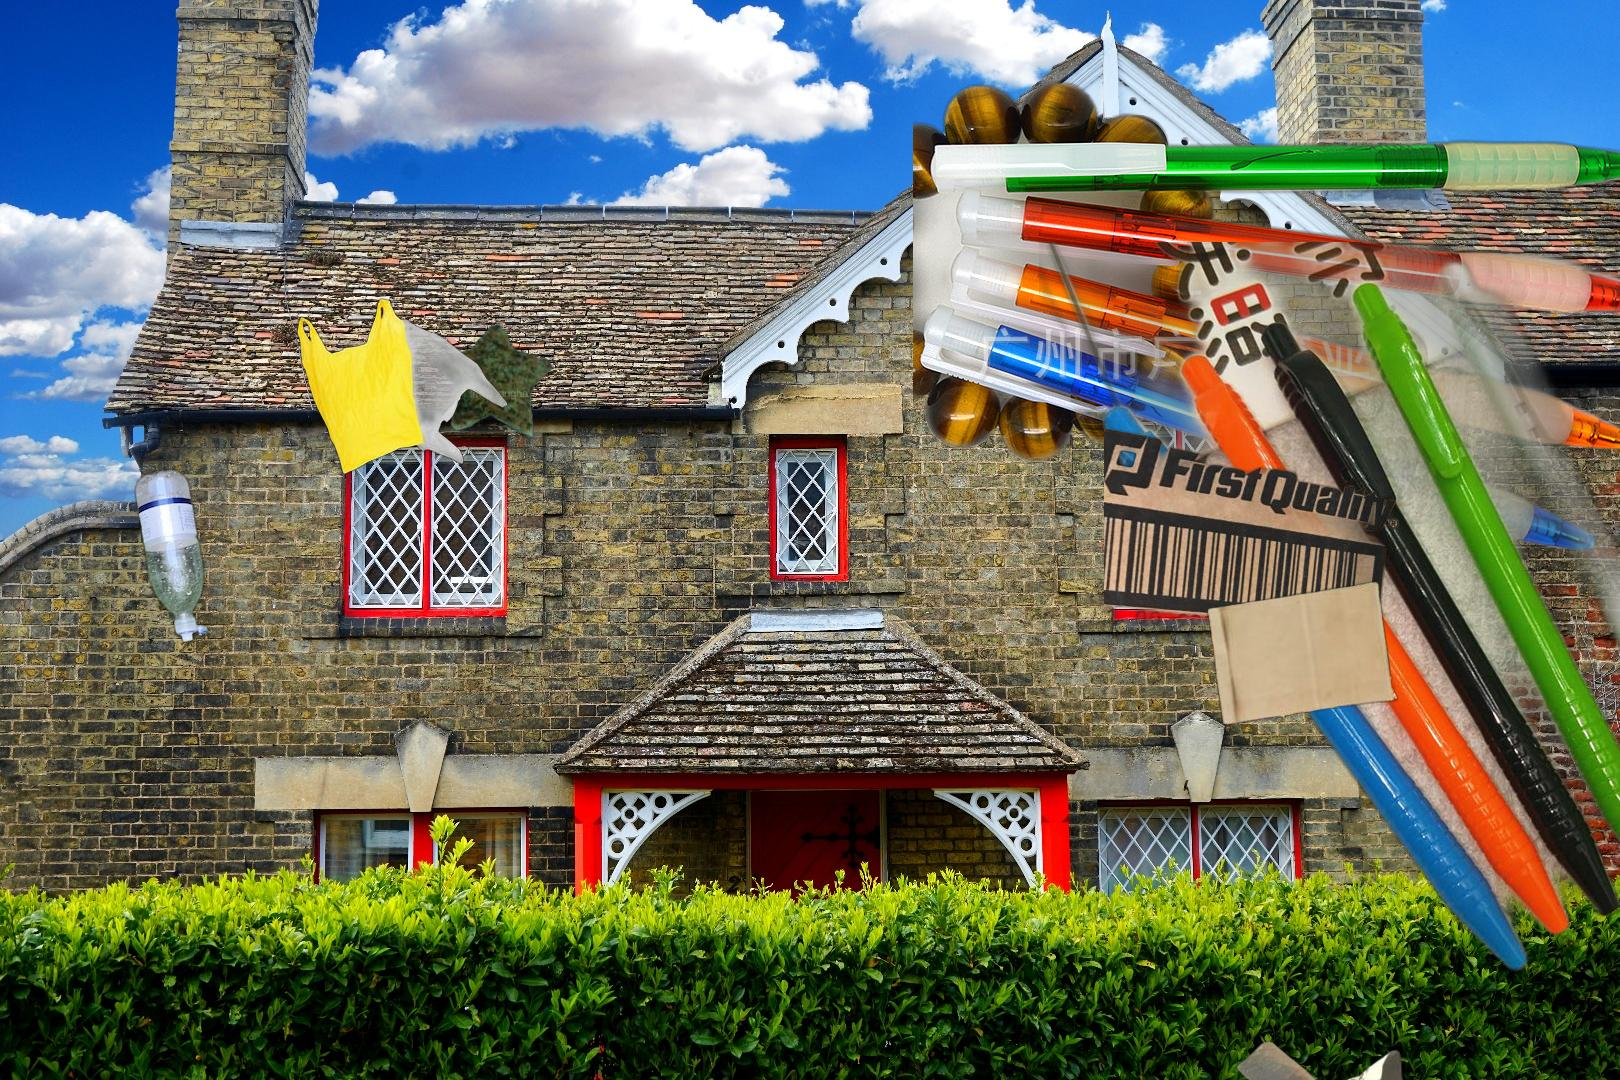biological: (432, 322, 554, 440)
paper: (1233, 1039, 1509, 1080)
paper-bag: (1204, 579, 1410, 728)
penholder: (1039, 242, 1620, 978), (912, 76, 1620, 558)
plastic-bag: (294, 284, 511, 477)
plastic-bottles: (130, 463, 215, 648)
trashbox-cardboard: (1104, 425, 1616, 686)
